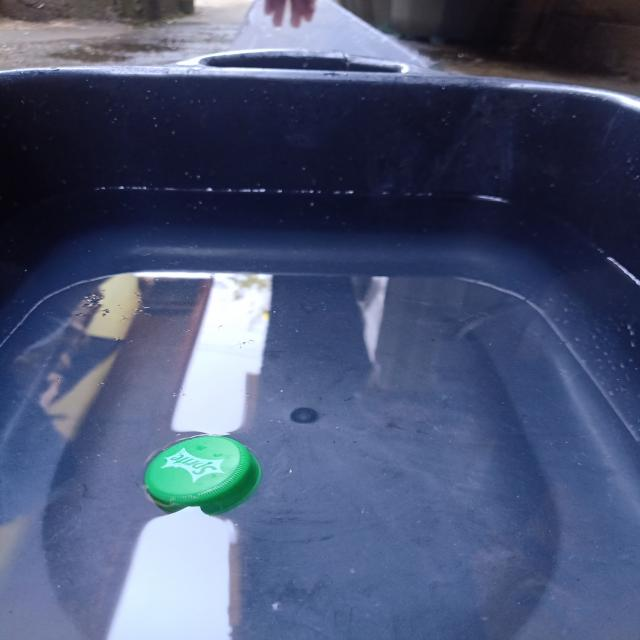Bottle Lid: (144, 435, 262, 516)
